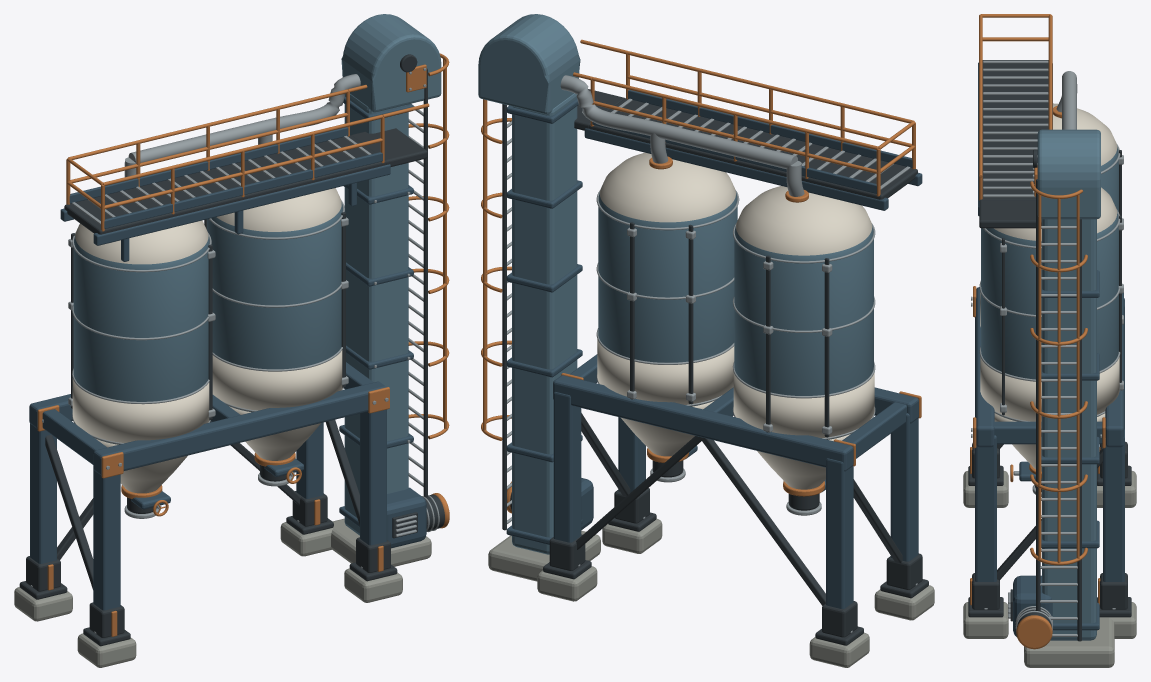
Rendered from vertical_material_tower.glb.
3 views of the same model, side by side, from view 1: azimuth 30°, elevation 25°; view 2: azimuth 150°, elevation 25°; view 3: azimuth 270°, elevation 25° (orthographic). The views are drawn at different scales.
Parts seen in each view (by area): view 1: Bin.0.MainShell, Bin.1.MainShell, Elevator.MainDuct, Frame.LongHeader.-1.0, Elevator.ArchedHead, Walkway.MainDeck, Bin.0.LowerPaleBand, Bin.1.LowerPaleBand, Frame.PrimaryColumn.0, Frame.PrimaryColumn.1, Walkway.EdgeBeam.-1.05, Frame.PrimaryColumn.2 (+29 smaller); view 2: Bin.0.MainShell, Bin.1.MainShell, Elevator.MainDuct, Frame.LongHeader.1.0, Elevator.ArchedHead, Walkway.MainDeck, Bin.0.LowerPaleBand, Bin.1.LowerPaleBand, Frame.PrimaryColumn.3, Frame.PrimaryColumn.2, Feed.HeaderDuct, Frame.PrimaryColumn.0 (+31 smaller); view 3: Elevator.MainDuct, Bin.1.MainShell, Walkway.MainDeck, Elevator.ArchedHead, Frame.PrimaryColumn.1, Frame.PrimaryColumn.3, Bin.1.LowerPaleBand, Elevator.Footing, Bin.0.MainShell, Walkway.ElevatorLanding, Ladder.CageSpine.1, Frame.LongHeader.-1.0 (+34 smaller).
Boxes of the visible parts, x1=… form: Bin.0.MainShell: x1=73, y1=220, x2=209, y2=444; Bin.1.MainShell: x1=207, y1=188, x2=342, y2=412; Elevator.MainDuct: x1=344, y1=93, x2=408, y2=535; Frame.LongHeader.-1.0: x1=93, y1=381, x2=386, y2=475; Elevator.ArchedHead: x1=341, y1=14, x2=441, y2=112; Walkway.MainDeck: x1=64, y1=135, x2=386, y2=234; Bin.0.LowerPaleBand: x1=72, y1=378, x2=209, y2=443; Bin.1.LowerPaleBand: x1=212, y1=350, x2=342, y2=410; Frame.PrimaryColumn.0: x1=93, y1=461, x2=120, y2=610; Frame.PrimaryColumn.1: x1=360, y1=409, x2=386, y2=545; Walkway.EdgeBeam.-1.05: x1=93, y1=164, x2=390, y2=245; Frame.PrimaryColumn.2: x1=30, y1=423, x2=56, y2=563; Bin.0.MainShell: x1=734, y1=186, x2=873, y2=439; Bin.1.MainShell: x1=598, y1=152, x2=737, y2=406; Elevator.MainDuct: x1=512, y1=93, x2=577, y2=554; Frame.LongHeader.1.0: x1=553, y1=375, x2=853, y2=471; Elevator.ArchedHead: x1=478, y1=14, x2=580, y2=114; Walkway.MainDeck: x1=589, y1=98, x2=917, y2=199; Bin.0.LowerPaleBand: x1=733, y1=373, x2=874, y2=438; Bin.1.LowerPaleBand: x1=597, y1=339, x2=734, y2=404; Frame.PrimaryColumn.3: x1=553, y1=392, x2=581, y2=542; Frame.PrimaryColumn.2: x1=826, y1=458, x2=853, y2=608; Feed.HeaderDuct: x1=560, y1=75, x2=797, y2=168; Frame.PrimaryColumn.0: x1=890, y1=413, x2=918, y2=561; Elevator.MainDuct: x1=1042, y1=219, x2=1096, y2=640; Bin.1.MainShell: x1=981, y1=187, x2=1118, y2=421; Walkway.MainDeck: x1=979, y1=60, x2=1048, y2=201; Elevator.ArchedHead: x1=1037, y1=129, x2=1100, y2=219; Frame.PrimaryColumn.1: x1=975, y1=435, x2=996, y2=581; Frame.PrimaryColumn.3: x1=1103, y1=429, x2=1124, y2=581; Bin.1.LowerPaleBand: x1=980, y1=357, x2=1119, y2=421; Elevator.Footing: x1=1024, y1=617, x2=1114, y2=667; Bin.0.MainShell: x1=1053, y1=103, x2=1118, y2=211; Walkway.ElevatorLanding: x1=979, y1=200, x2=1041, y2=228; Ladder.CageSpine.1: x1=1057, y1=198, x2=1060, y2=563; Frame.LongHeader.-1.0: x1=976, y1=287, x2=994, y2=447.
Bounding box in the file's own units: 7.12 × 8.99 × 2.68.
